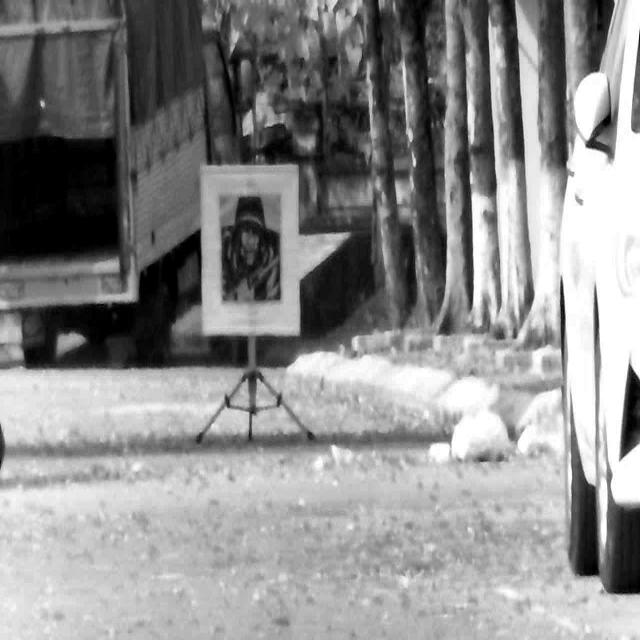bia: (220, 193, 282, 303)
